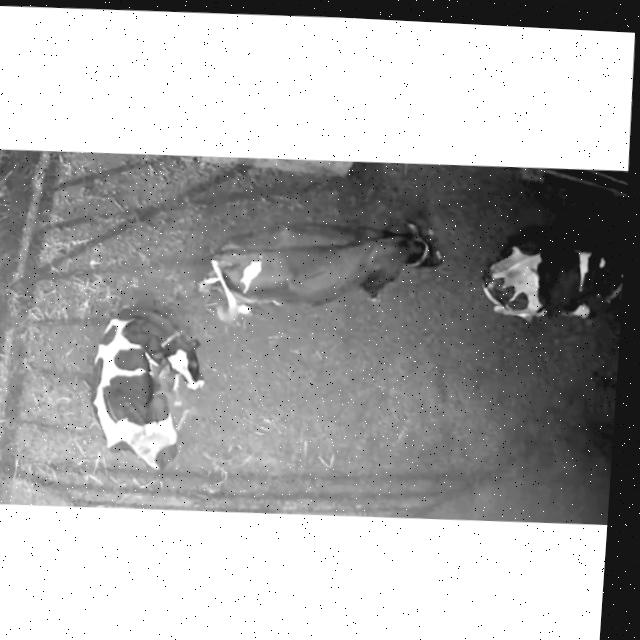lay: (77, 298, 210, 478), (471, 211, 627, 349)
